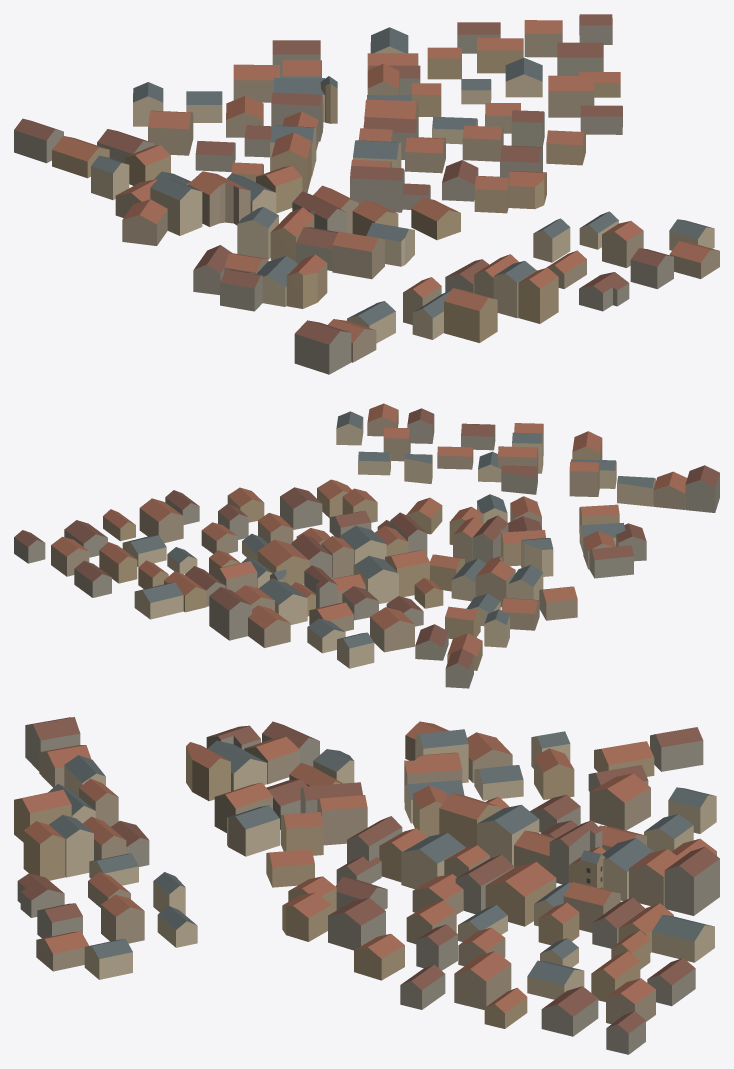
The picture shows the model from 3 angles, top to bottom: view 1: azimuth 30°, elevation 25°; view 2: azimuth 150°, elevation 25°; view 3: azimuth 270°, elevation 25°; orthographic projection. The views are drawn at different scales.
Parts seen in each view (by area): view 1: C_4_0; view 2: C_4_0; view 3: C_4_0.
Part boxes in pixels (x1,y1,x2,y2): C_4_0: [14, 14, 719, 374]; C_4_0: [14, 403, 719, 688]; C_4_0: [14, 717, 719, 1054].
Size of the model in its own units: 195 by 13.92 by 190.
